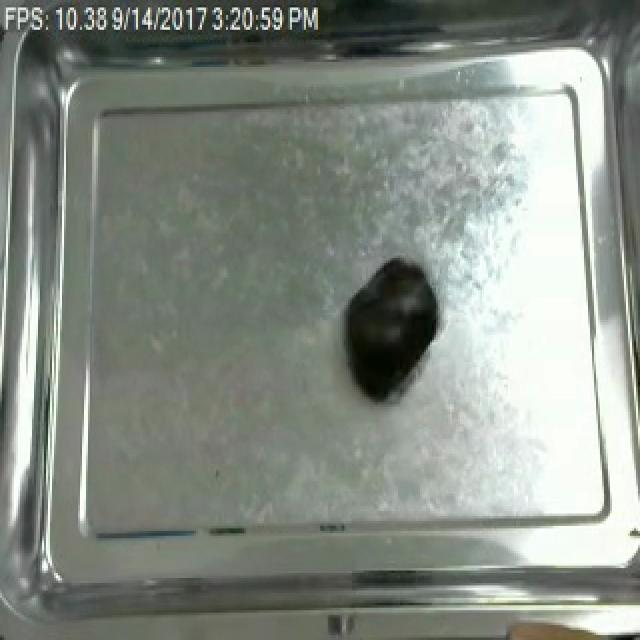Fruit: (338, 253, 446, 397)
